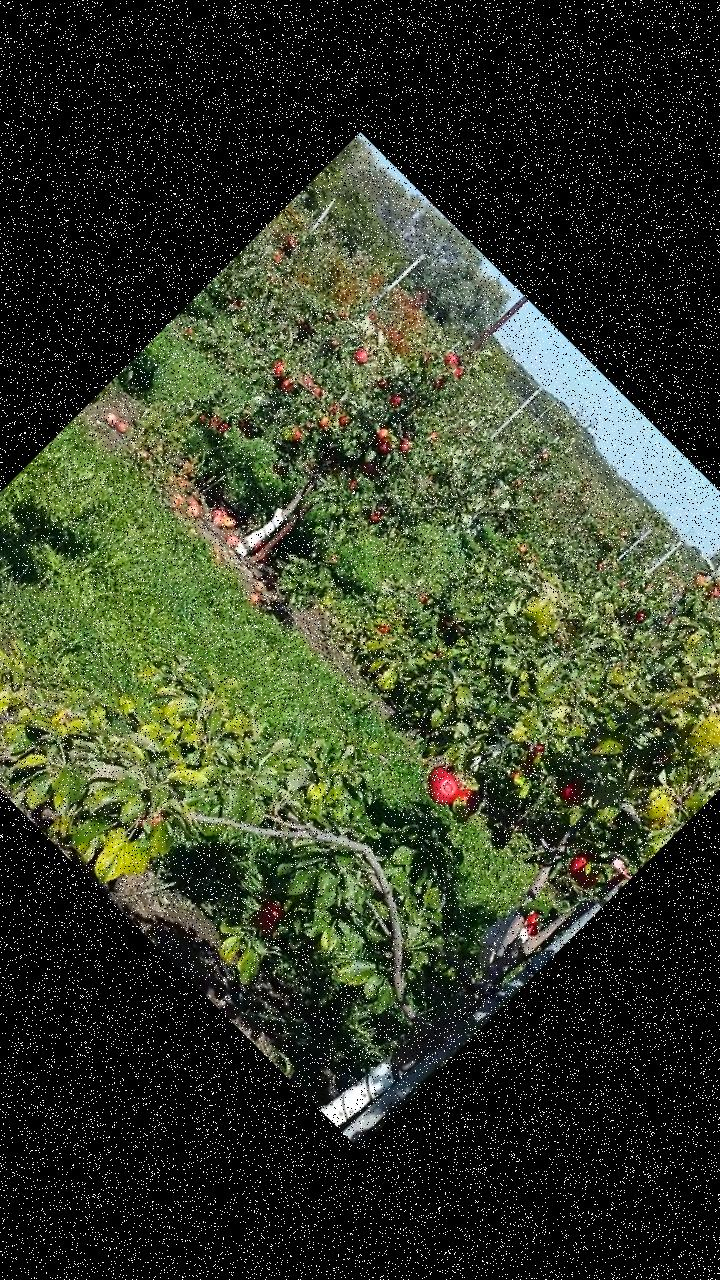Apple: (562, 850, 606, 894), (444, 780, 488, 824), (422, 768, 464, 811), (558, 773, 594, 810), (134, 802, 168, 837), (516, 907, 548, 940), (257, 896, 288, 928), (424, 760, 452, 789), (250, 908, 278, 936)
